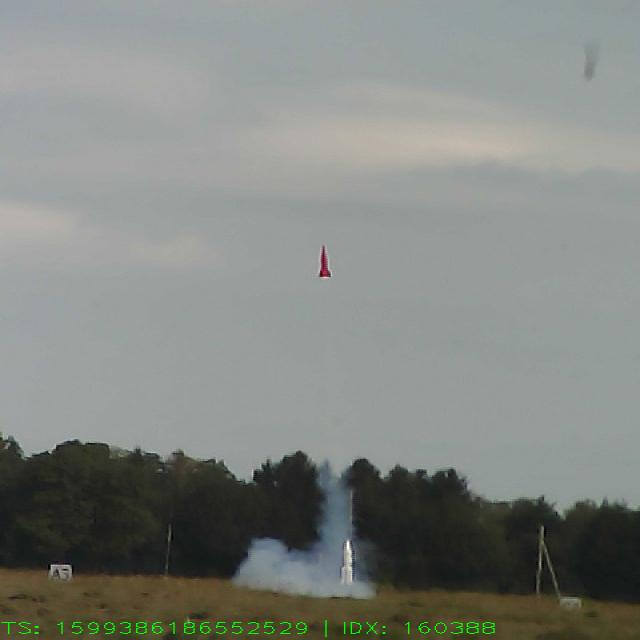Rocket: (340, 537, 356, 587), (316, 243, 332, 280)
